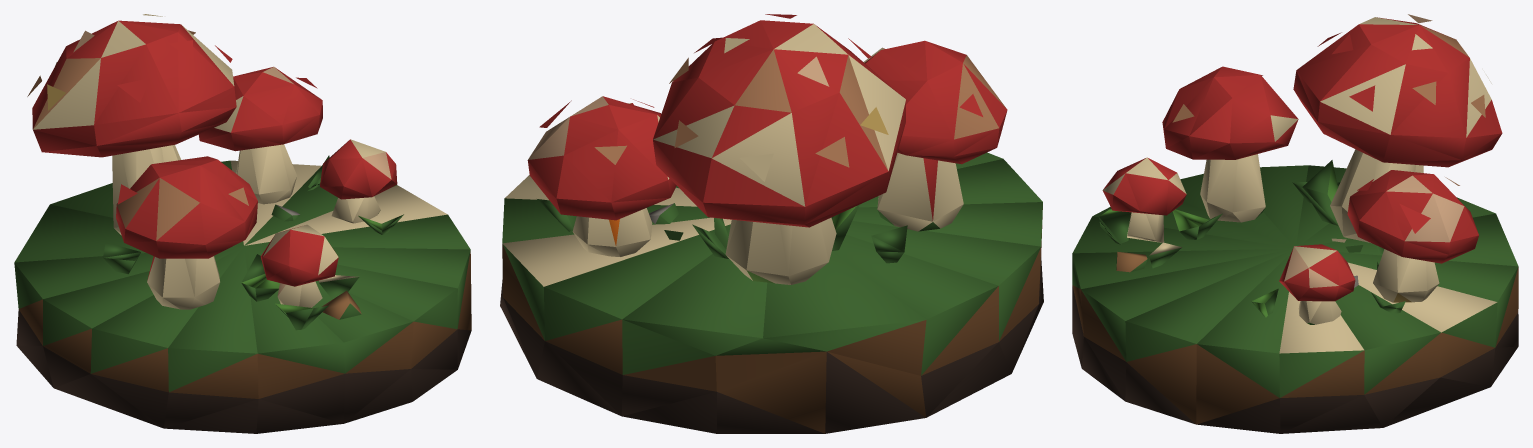
Rendered from prop.mushroom_ring.glb.
3 views of the same model, side by side, from view 1: azimuth 30°, elevation 25°; view 2: azimuth 150°, elevation 25°; view 3: azimuth 270°, elevation 25° (orthographic). The views are drawn at different scales.
Parts seen in each view (by area): view 1: asset; view 2: asset; view 3: asset.
Boxes of the visible parts, x1=… form: asset: x1=14, y1=14, x2=471, y2=433; asset: x1=500, y1=14, x2=1043, y2=433; asset: x1=1072, y1=14, x2=1518, y2=433.
Size of the model in its own units: 0.9869 by 0.7 by 0.9869.
